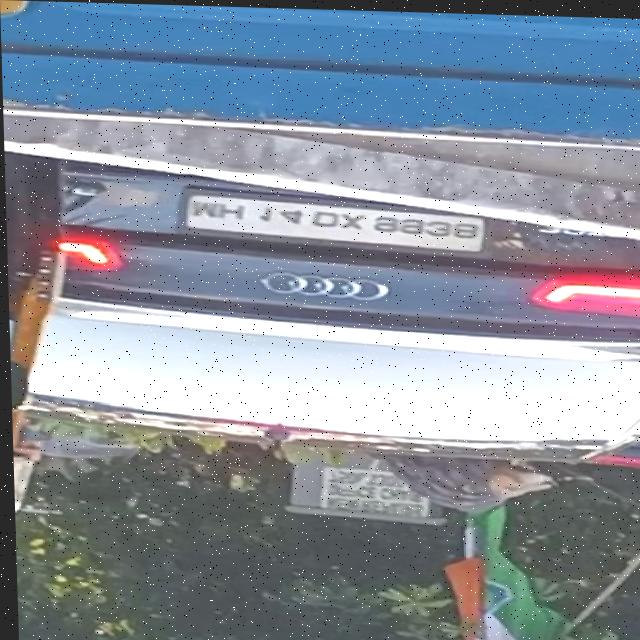plate: (172, 182, 497, 256)
